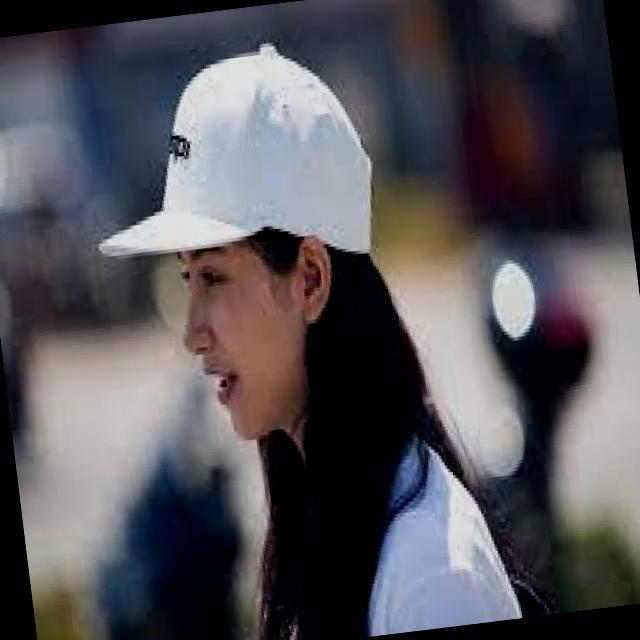cap: (69, 14, 402, 352)
